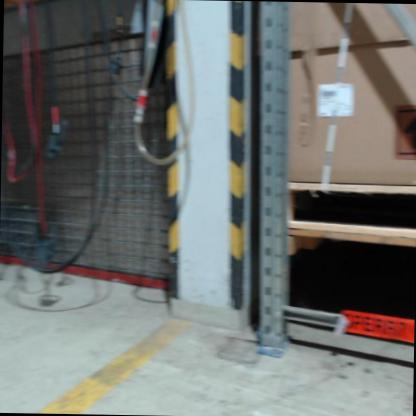pallet: (285, 179, 416, 239)
